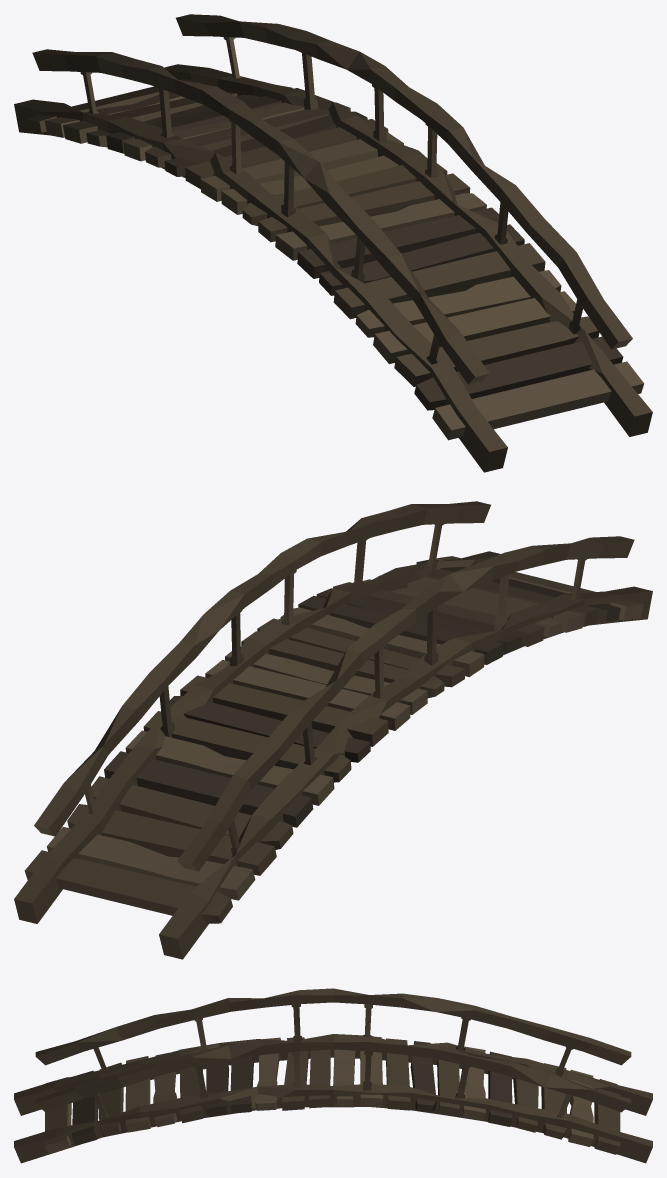
The model's file is synty-prop-bridge-curved-01.gltf.
3 views of the same model, one above another, from view 1: azimuth 30°, elevation 25°; view 2: azimuth 150°, elevation 25°; view 3: azimuth 270°, elevation 25° (orthographic). The views are drawn at different scales.
Visible parts, largest first — view 1: SM_Prop_Bridge_Curved_01; view 2: SM_Prop_Bridge_Curved_01; view 3: SM_Prop_Bridge_Curved_01.
Boxes of the visible parts, <box> form: SM_Prop_Bridge_Curved_01: <box>14,14,652,472</box>; SM_Prop_Bridge_Curved_01: <box>14,501,652,959</box>; SM_Prop_Bridge_Curved_01: <box>14,988,652,1163</box>.
Size of the model in its own units: 2.1 by 1.84 by 8.79.
Materials: 1 (1 with a texture image).
